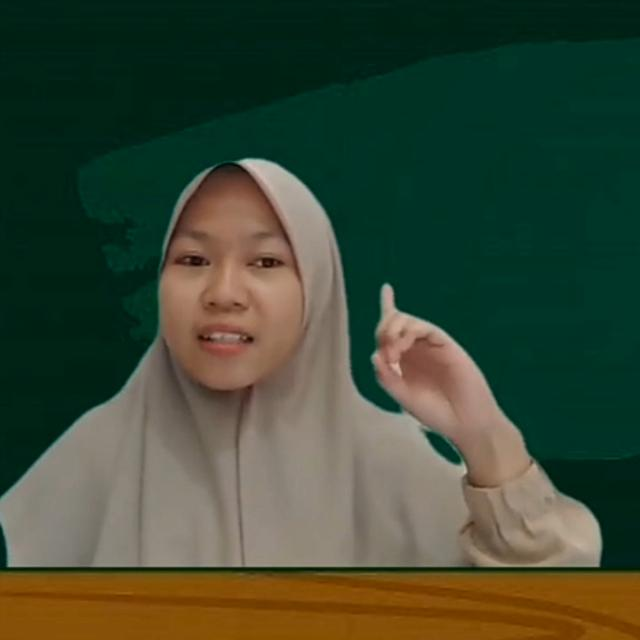D: (367, 282, 513, 448)
